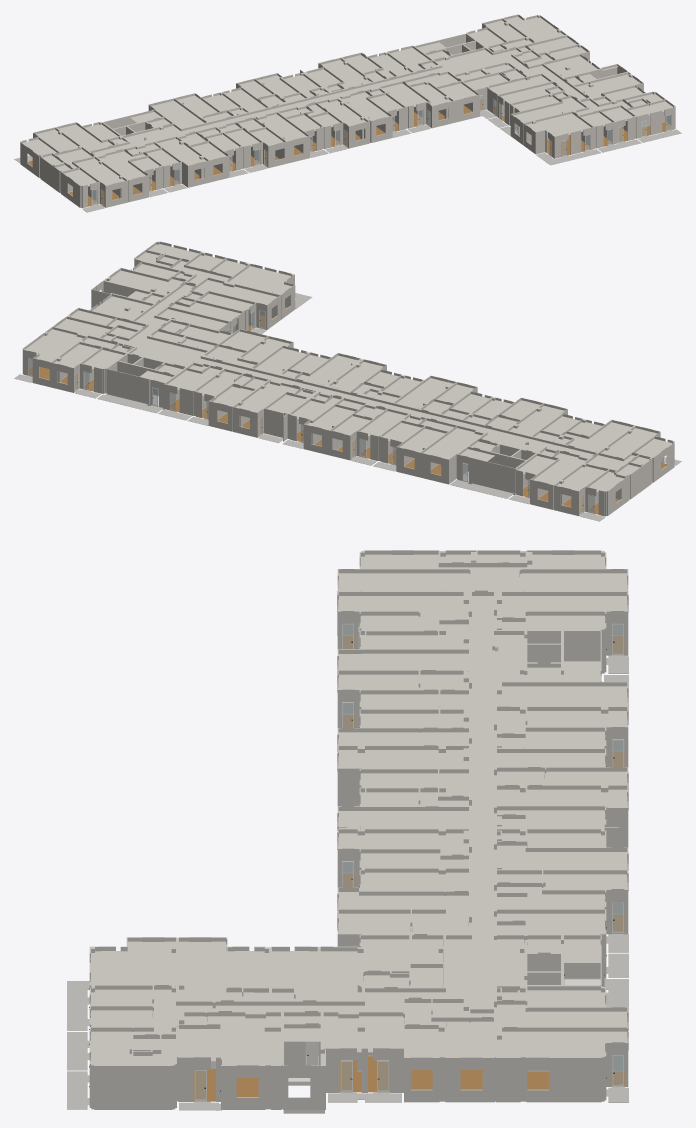
3 views of the same model, one above another, from view 1: azimuth 30°, elevation 25°; view 2: azimuth 150°, elevation 25°; view 3: azimuth 270°, elevation 25° (orthographic). The views are drawn at different scales.
Parts seen in each view (by area): view 1: in_L07_walls__int_wall, in_L07_ceiling__int_wall, in_L07_u114_walls__int_wall, in_L07_u125_walls__int_wall, in_L07_u114_ceiling__int_wall, in_L07_u125_ceiling__int_wall, in_L07_u117_walls__int_wall, in_L07_u117_ceiling__int_wall, in_L07_u120_walls__int_wall, in_L07_u111_ceiling__int_wall, in_L07_u119_walls__int_wall, in_L07_u106_ceiling__int_wall (+29 smaller); view 2: in_L07_walls__int_wall, in_L07_ceiling__int_wall, in_L07_u125_walls__int_wall, in_L07_u114_ceiling__int_wall, in_L07_u125_ceiling__int_wall, in_L07_u111_walls__int_wall, in_L07_u117_ceiling__int_wall, in_L07_u111_ceiling__int_wall, in_L07_u107_walls__int_wall, in_L07_u106_ceiling__int_wall, in_L07_u106_walls__int_wall, in_L07_u112_ceiling__int_wall (+30 smaller); view 3: in_L07_walls__int_wall, in_L07_ceiling__int_wall, in_L07_u114_ceiling__int_wall, in_L07_u125_ceiling__int_wall, in_L07_u117_ceiling__int_wall, in_L07_u111_walls__int_wall, in_L07_u111_ceiling__int_wall, in_L07_u112_ceiling__int_wall, in_L07_u106_ceiling__int_wall, in_L07_u114_walls__int_wall, in_L07_u112_walls__int_wall, in_L07_u121_ceiling__int_wall (+33 smaller).
Part boxes in pixels (x1,y1,x2,y2): in_L07_walls__int_wall: (55,33,675,207); in_L07_ceiling__int_wall: (92,42,617,155); in_L07_u114_walls__int_wall: (523,91,675,158); in_L07_u125_walls__int_wall: (20,127,127,207); in_L07_u114_ceiling__int_wall: (526,94,672,135); in_L07_u125_ceiling__int_wall: (23,129,124,186); in_L07_u117_walls__int_wall: (378,69,488,128); in_L07_u117_ceiling__int_wall: (382,70,485,106); in_L07_u120_walls__int_wall: (218,115,309,168); in_L07_u111_ceiling__int_wall: (469,16,563,50); in_L07_u119_walls__int_wall: (286,97,369,150); in_L07_u106_ceiling__int_wall: (151,95,244,127); in_L07_walls__int_wall: (22,259,635,516); in_L07_ceiling__int_wall: (113,284,593,461); in_L07_u125_walls__int_wall: (554,425,674,516); in_L07_u114_ceiling__int_wall: (137,244,291,294); in_L07_u125_ceiling__int_wall: (557,428,671,491); in_L07_u111_walls__int_wall: (22,327,133,393); in_L07_u117_ceiling__int_wall: (182,331,305,374); in_L07_u111_ceiling__int_wall: (25,329,128,368); in_L07_u107_walls__int_wall: (303,403,401,460); in_L07_u106_ceiling__int_wall: (383,417,480,459); in_L07_u106_walls__int_wall: (380,414,483,484); in_L07_u112_ceiling__int_wall: (56,296,150,339); in_L07_walls__int_wall: (91,551,628,1109); in_L07_ceiling__int_wall: (215,596,600,1065); in_L07_u114_ceiling__int_wall: (90,941,212,1065); in_L07_u125_ceiling__int_wall: (338,554,627,590); in_L07_u117_ceiling__int_wall: (338,872,468,962); in_L07_u111_walls__int_wall: (497,986,628,1102); in_L07_u111_ceiling__int_wall: (497,990,627,1057); in_L07_u112_ceiling__int_wall: (323,1003,493,1057); in_L07_u106_ceiling__int_wall: (497,686,627,747); in_L07_u114_walls__int_wall: (89,937,180,1109); in_L07_u112_walls__int_wall: (328,999,497,1102); in_L07_u121_ceiling__int_wall: (338,653,468,708).
Bounding box in the file's own units: 82.8 × 3.6 × 38.1.
